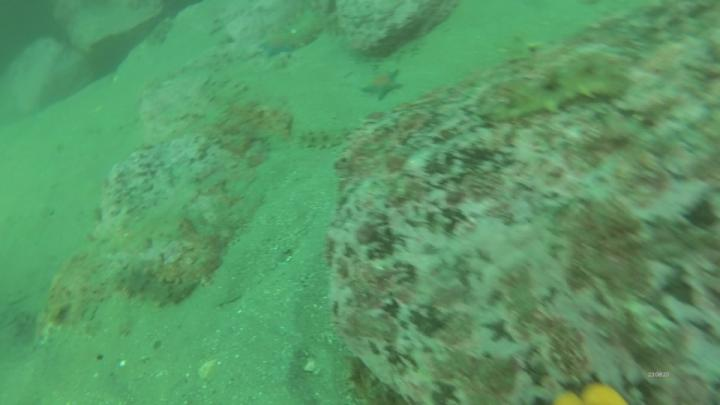holothurian: (483, 69, 633, 124), (292, 126, 353, 153)
starfish: (360, 67, 405, 103), (257, 32, 298, 59)
